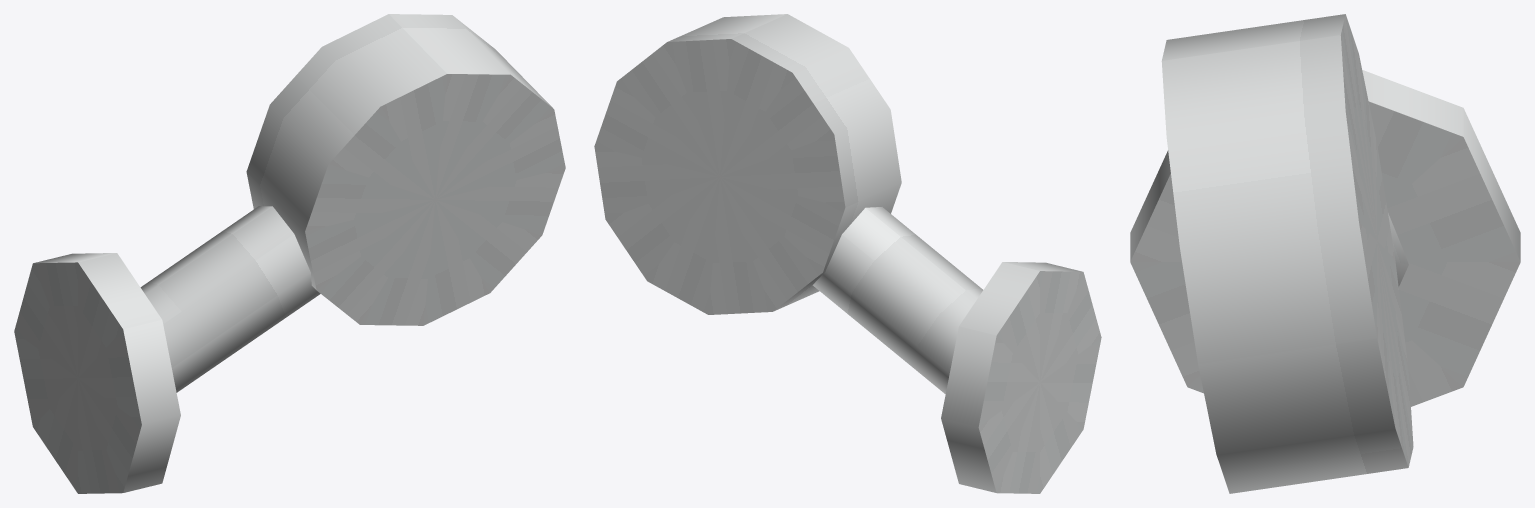
The model's file is trusssignalarm_stub_106.obj.
3 renders of one model, left to right at view 1: azimuth 30°, elevation 25°; view 2: azimuth 150°, elevation 25°; view 3: azimuth 270°, elevation 25°, orthographic. The views are drawn at different scales.
Parts seen in each view (by area): view 1: trusssignalarm_stub_106; view 2: trusssignalarm_stub_106; view 3: trusssignalarm_stub_106.
Boxes of the visible parts, bbox=[...] form: trusssignalarm_stub_106: bbox=[14, 14, 565, 493]; trusssignalarm_stub_106: bbox=[594, 14, 1101, 493]; trusssignalarm_stub_106: bbox=[1130, 14, 1520, 493].
Bounding box in the file's own units: 0.7056 × 0.6036 × 0.35.
